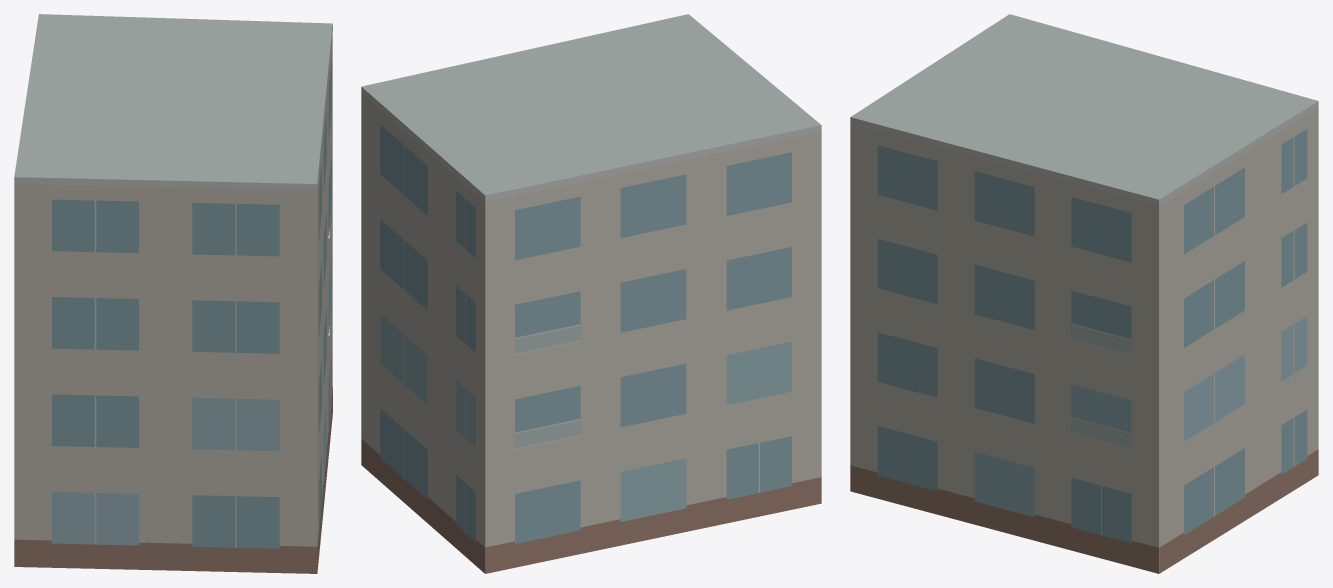
Rendered from survey-upis-32747170.glb.
The picture shows the model from 3 angles, left to right: view 1: azimuth 30°, elevation 25°; view 2: azimuth 150°, elevation 25°; view 3: azimuth 270°, elevation 25°; orthographic projection. The views are drawn at different scales.
Parts seen in each view (by area): view 1: survey-upis-32747170.tmp; view 2: survey-upis-32747170.tmp; view 3: survey-upis-32747170.tmp.
Part boxes in pixels (x1,y1,x2,y2): survey-upis-32747170.tmp: [14, 14, 332, 573]; survey-upis-32747170.tmp: [361, 14, 821, 573]; survey-upis-32747170.tmp: [850, 14, 1318, 573].
Size of the model in its own units: 14.59 by 13.7 by 15.55.
